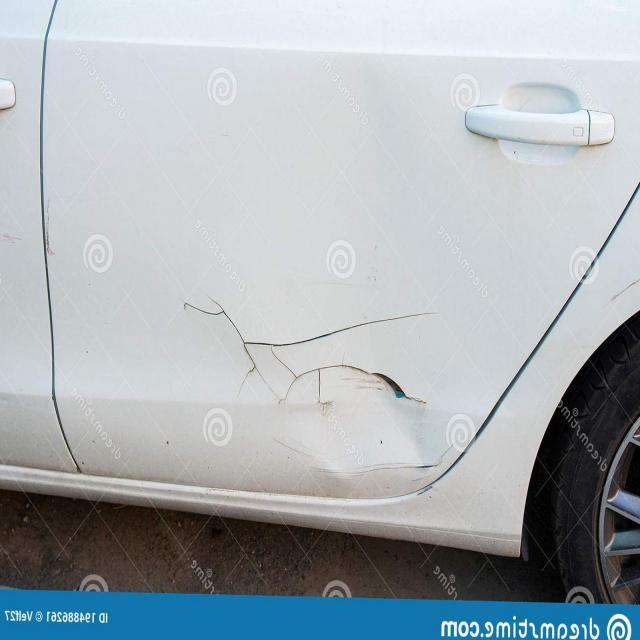dent: (162, 274, 452, 465)
